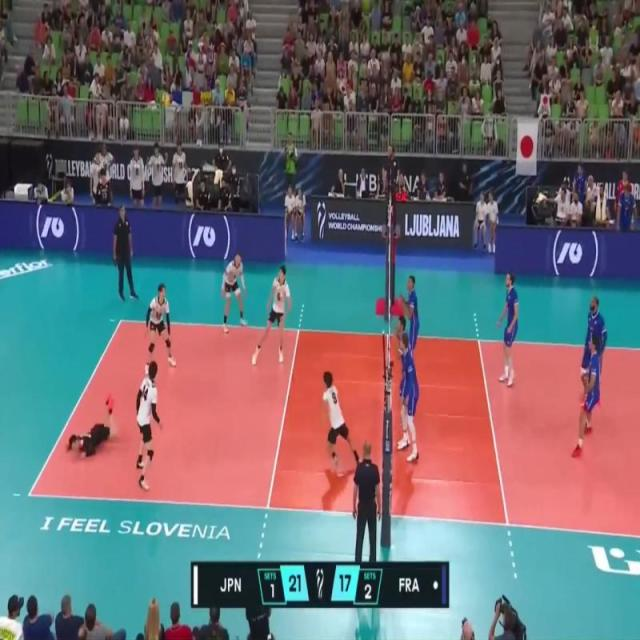volleyball: (161, 90, 172, 107)
